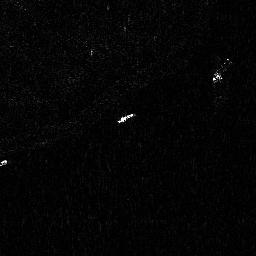ship: (211, 55, 233, 82), (115, 111, 135, 124)
